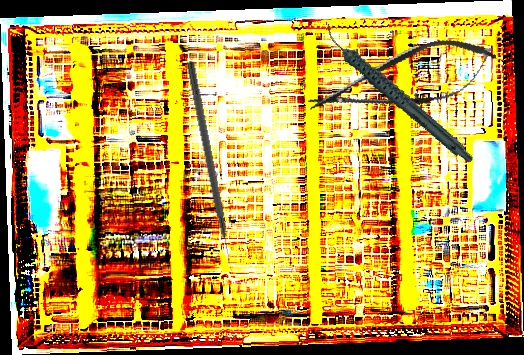Handpiece: (321, 0, 475, 188)
Hook Surgical: (184, 60, 236, 273)
Micro Scissor: (301, 27, 504, 134)
